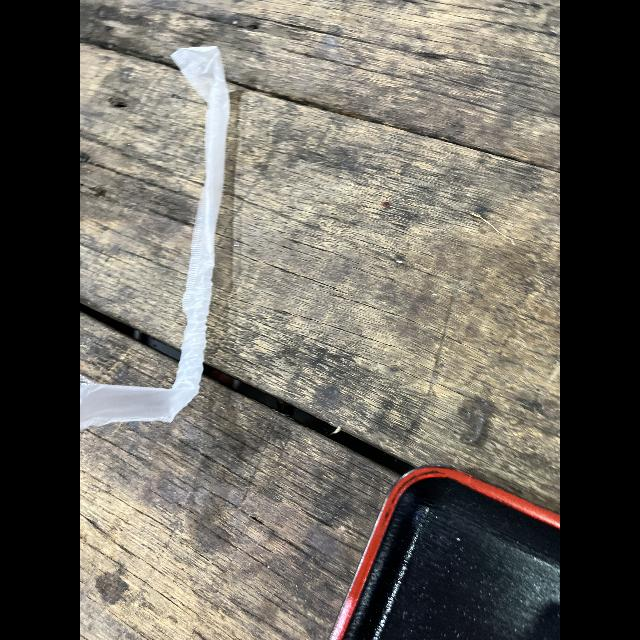scrap_plastic: (80, 40, 238, 446)
